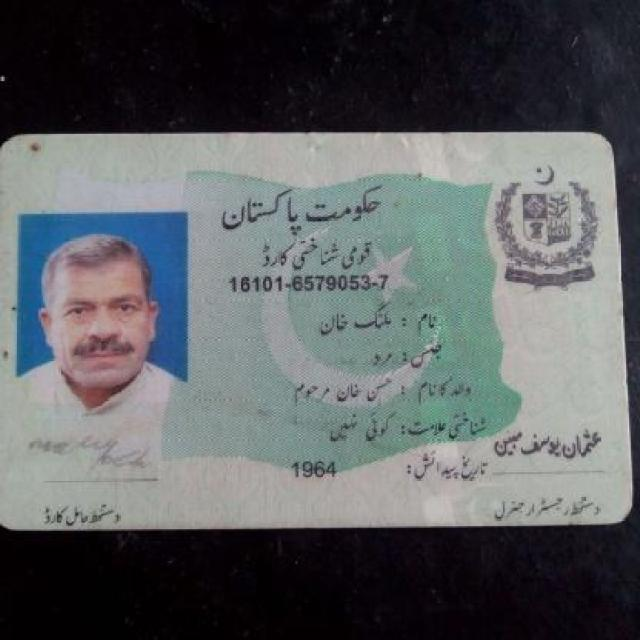Front: (7, 121, 636, 537)
